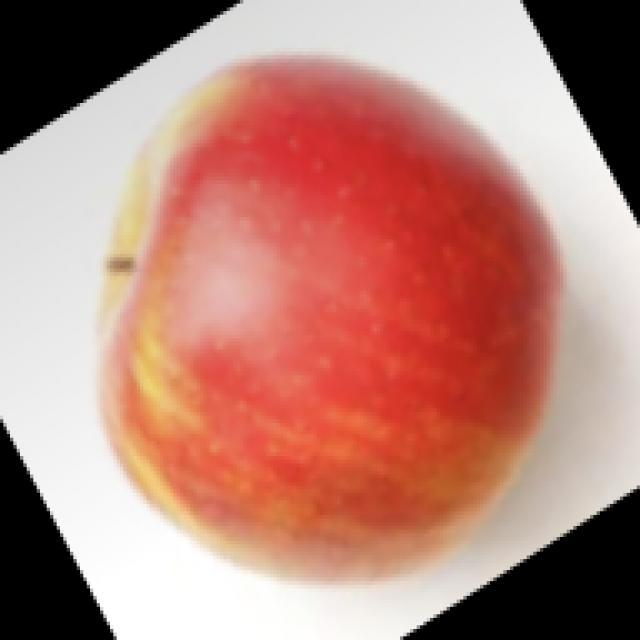Fresh Apple: (128, 42, 542, 588)
